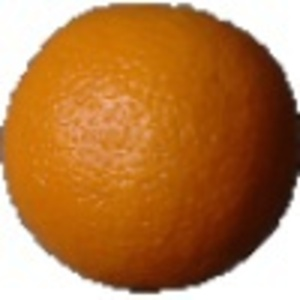laranja: (1, 3, 299, 292)
